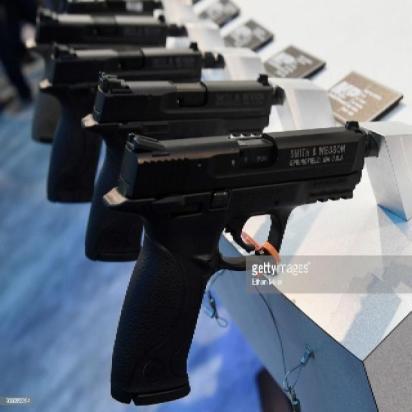Gun: (110, 121, 350, 404), (89, 67, 283, 131), (39, 36, 216, 86)
